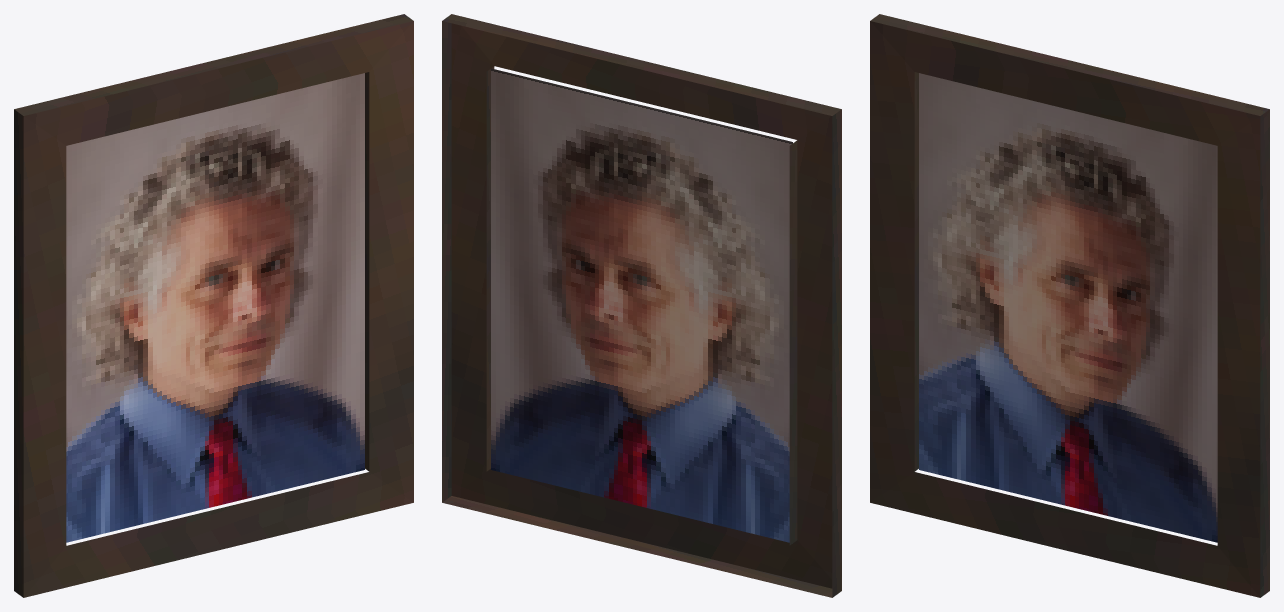
Rendered from pinker.glb.
3 renders of one model, left to right at view 1: azimuth 30°, elevation 25°; view 2: azimuth 150°, elevation 25°; view 3: azimuth 330°, elevation 25°, orthographic.
Parts seen in each view (by area): view 1: image, frame; view 2: image, frame; view 3: image, frame.
Part boxes in pixels (x1,y1,x2,y2): image: (66,73,364,542); frame: (14,14,413,597); image: (491,68,792,542); frame: (442,14,841,597); image: (919,73,1217,542); frame: (870,14,1269,597).
Size of the model in its own units: 4.12 by 4.87 by 0.1739.
1 material, 1 textured.
